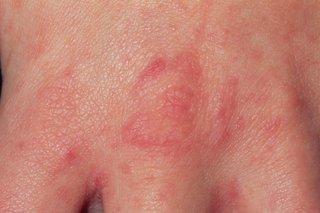Scabies: (127, 52, 215, 143), (224, 173, 248, 208)
